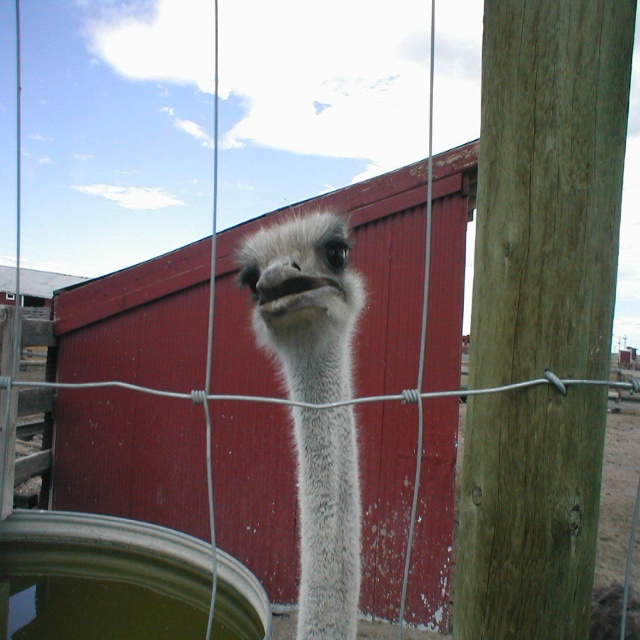Ostrich: (211, 181, 377, 638)
